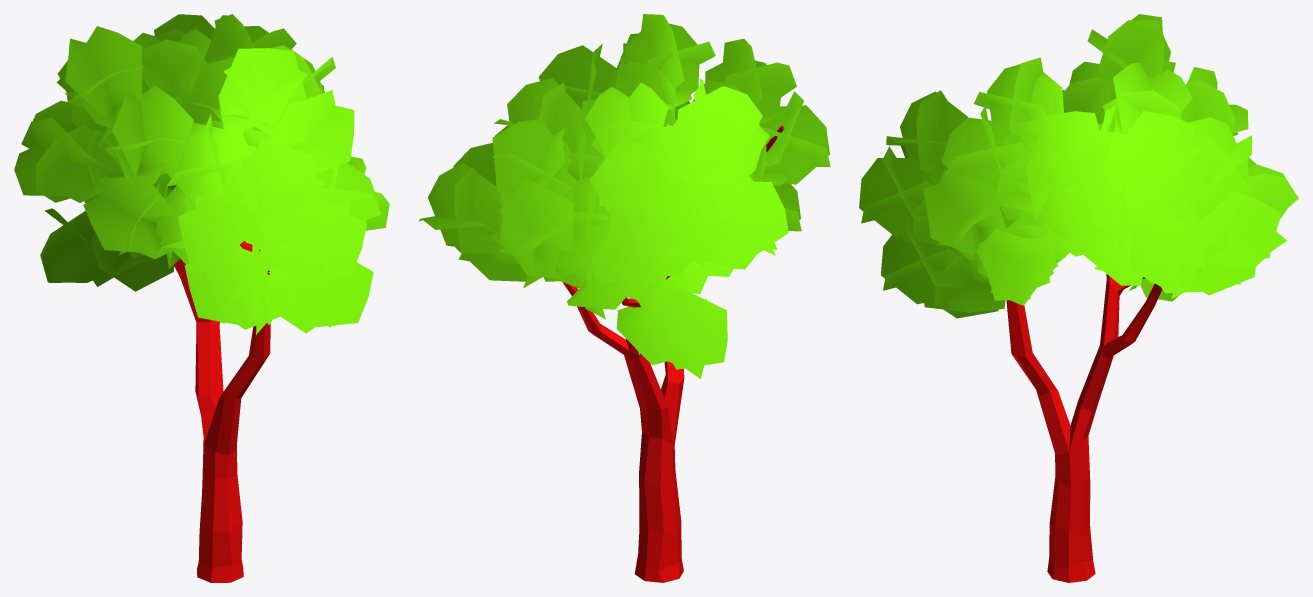
The model's file is SM_Tree_Generic_01.glb.
3 views of the same model, side by side, from view 1: azimuth 30°, elevation 25°; view 2: azimuth 150°, elevation 25°; view 3: azimuth 270°, elevation 25° (orthographic). The views are drawn at different scales.
Visible parts, largest first — view 1: SM_Tree_Generic_01; view 2: SM_Tree_Generic_01; view 3: SM_Tree_Generic_01.
Boxes of the visible parts, x1,y1,x2,y2 form: SM_Tree_Generic_01: (14,14,389,582); SM_Tree_Generic_01: (418,14,830,582); SM_Tree_Generic_01: (859,14,1298,582).
Bounding box in the file's own units: 3.43 × 5.6 × 4.23.
